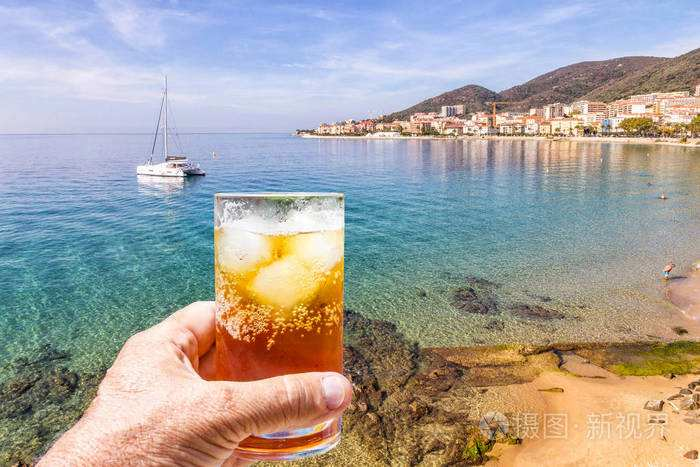no-phone: (45, 187, 365, 467)
